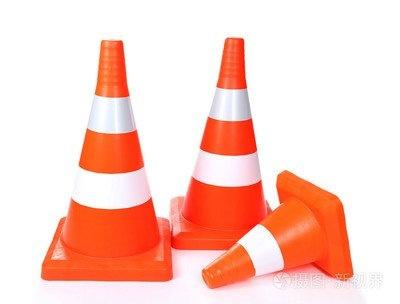cone_barrel: (45, 40, 163, 268), (174, 38, 275, 244), (199, 168, 351, 290)
